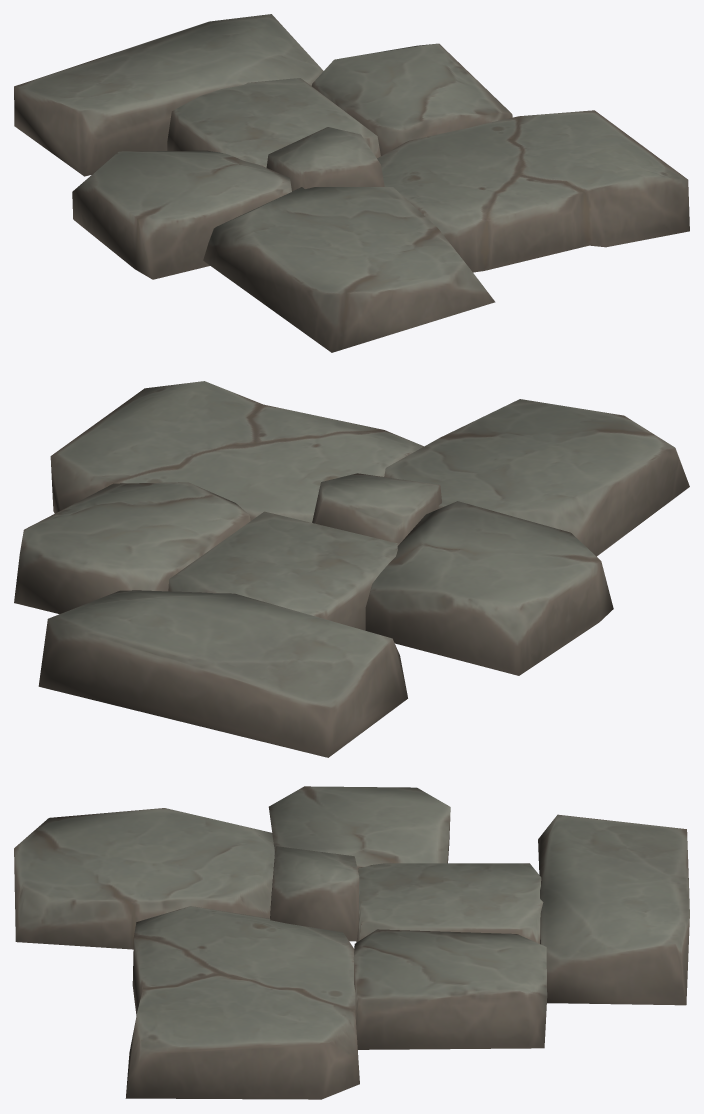
The model's file is SM_FW01_Floor_Tile_Group_07.fbx.
3 renders of one model, top to bottom at view 1: azimuth 30°, elevation 25°; view 2: azimuth 150°, elevation 25°; view 3: azimuth 270°, elevation 25°, orthographic. The views are drawn at different scales.
Visible parts, largest first — view 1: SM_FW01_Floor_Tile_Group_07; view 2: SM_FW01_Floor_Tile_Group_07; view 3: SM_FW01_Floor_Tile_Group_07.
Part boxes in pixels (bbox=[...]): SM_FW01_Floor_Tile_Group_07: bbox=[14, 14, 689, 352]; SM_FW01_Floor_Tile_Group_07: bbox=[14, 381, 689, 757]; SM_FW01_Floor_Tile_Group_07: bbox=[14, 786, 689, 1099].
Bounding box in the file's own units: 1.15 × 0.1993 × 1.34.
